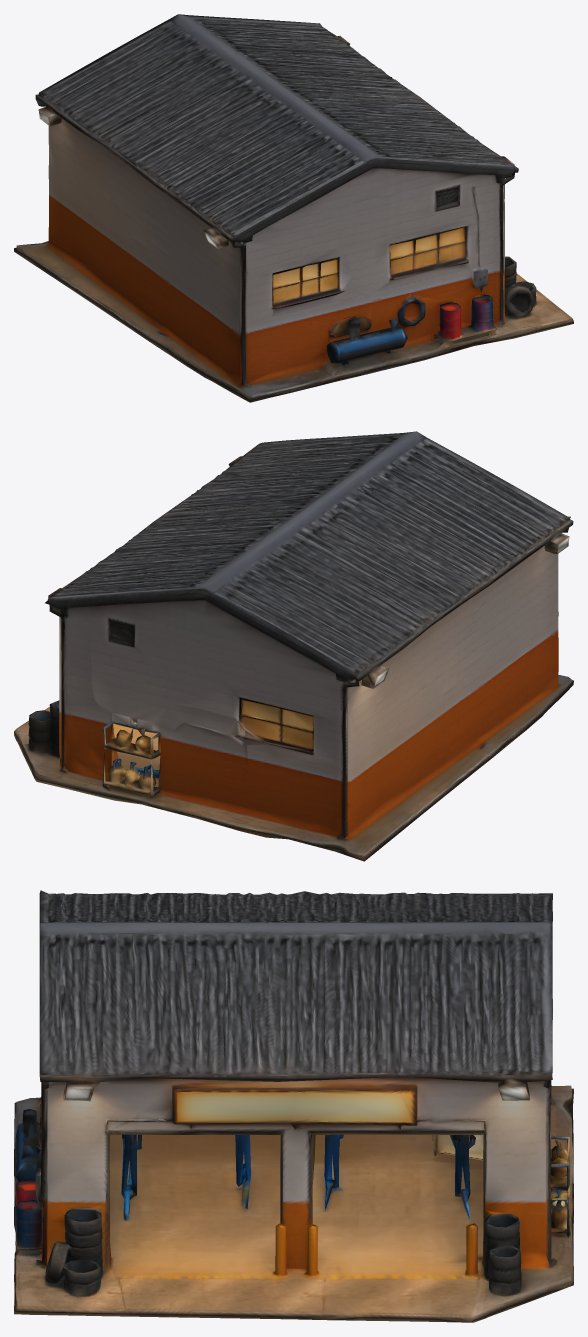
File: tyre_shop.glb
3 renders of one model, top to bottom at view 1: azimuth 30°, elevation 25°; view 2: azimuth 150°, elevation 25°; view 3: azimuth 270°, elevation 25°, orthographic. The views are drawn at different scales.
Parts seen in each view (by area): view 1: tripo_node_400f97c9-9cb4-4712-a98a-60861b2b42f0; view 2: tripo_node_400f97c9-9cb4-4712-a98a-60861b2b42f0; view 3: tripo_node_400f97c9-9cb4-4712-a98a-60861b2b42f0.
Part boxes in pixels (x1=…): tripo_node_400f97c9-9cb4-4712-a98a-60861b2b42f0: x1=14, y1=14, x2=573, y2=402; tripo_node_400f97c9-9cb4-4712-a98a-60861b2b42f0: x1=14, y1=431, x2=573, y2=861; tripo_node_400f97c9-9cb4-4712-a98a-60861b2b42f0: x1=14, y1=890, x2=573, y2=1322.
Size of the model in its own units: 0.9692 by 0.5324 by 1.
Materials: 1 (1 with a texture image).
